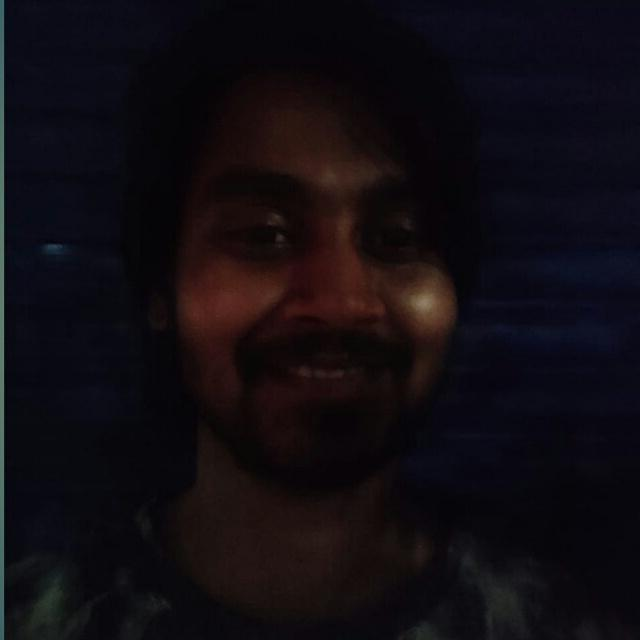Happy: (133, 77, 506, 503)
